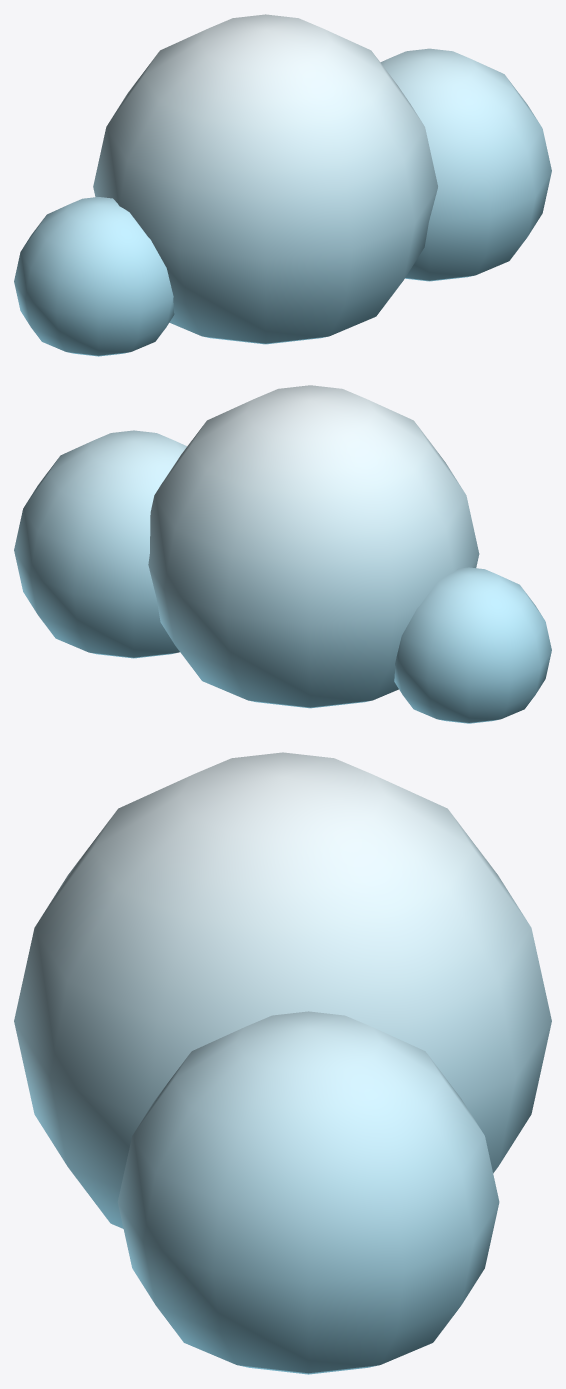
Rendered from Cloud_01.glb.
The picture shows the model from 3 angles, top to bottom: view 1: azimuth 30°, elevation 25°; view 2: azimuth 150°, elevation 25°; view 3: azimuth 270°, elevation 25°; orthographic projection. The views are drawn at different scales.
Visible parts, largest first — view 1: Cloud_01; view 2: Cloud_01; view 3: Cloud_01.
Boxes of the visible parts, box(x1,y1,x2,y2) form: Cloud_01: box(14, 14, 551, 356); Cloud_01: box(14, 385, 551, 723); Cloud_01: box(14, 752, 551, 1374).
Bounding box in the file's own units: 3.45 × 1.71 × 2.
1 material, 1 textured.
